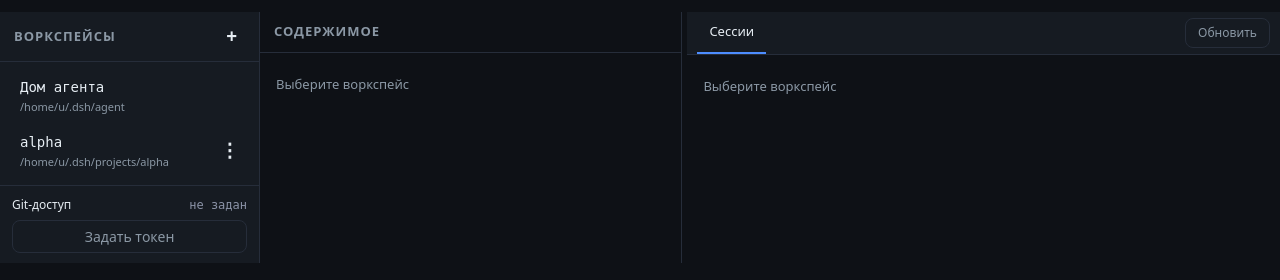
Test: WorkspacesPage live events › refreshes the tree on an fs event for the selected workspace
The image size is (1280, 280).
Click the button with test id "ws-row-project:alpha": coordinates (107, 151) x1=8 y1=124 x2=206 y2=177
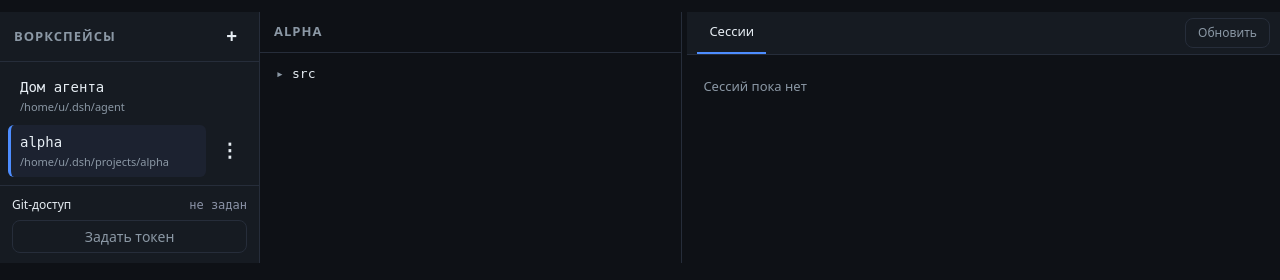
Now the text "src" is shown, box x1=292 y1=64 x2=316 y2=83
